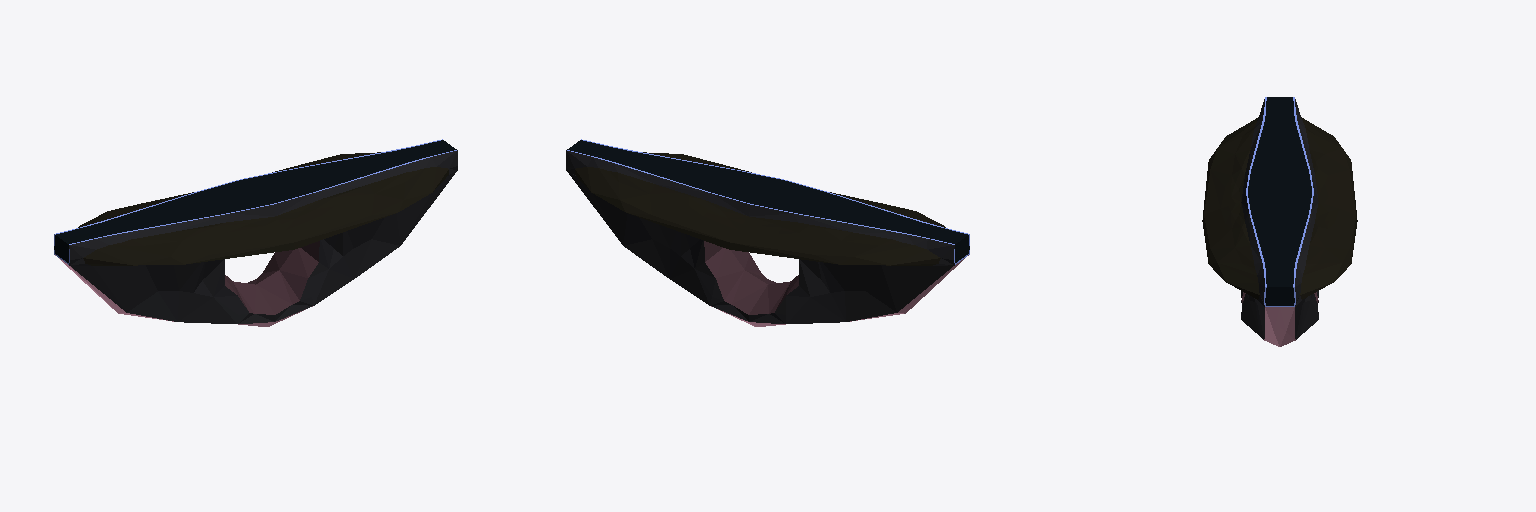
The model's file is ruins.obj.
3 renders of one model, left to right at view 1: azimuth 30°, elevation 25°; view 2: azimuth 150°, elevation 25°; view 3: azimuth 270°, elevation 25°, orthographic.
Parts seen in each view (by area): view 1: Ruins_Stage; view 2: Ruins_Stage; view 3: Ruins_Stage.
Boxes of the visible parts, <box> form: Ruins_Stage: <box>54,139,457,326</box>; Ruins_Stage: <box>566,139,969,326</box>; Ruins_Stage: <box>1202,97,1357,346</box>.
Bounding box in the file's own units: 2 × 0.6286 × 0.6927.